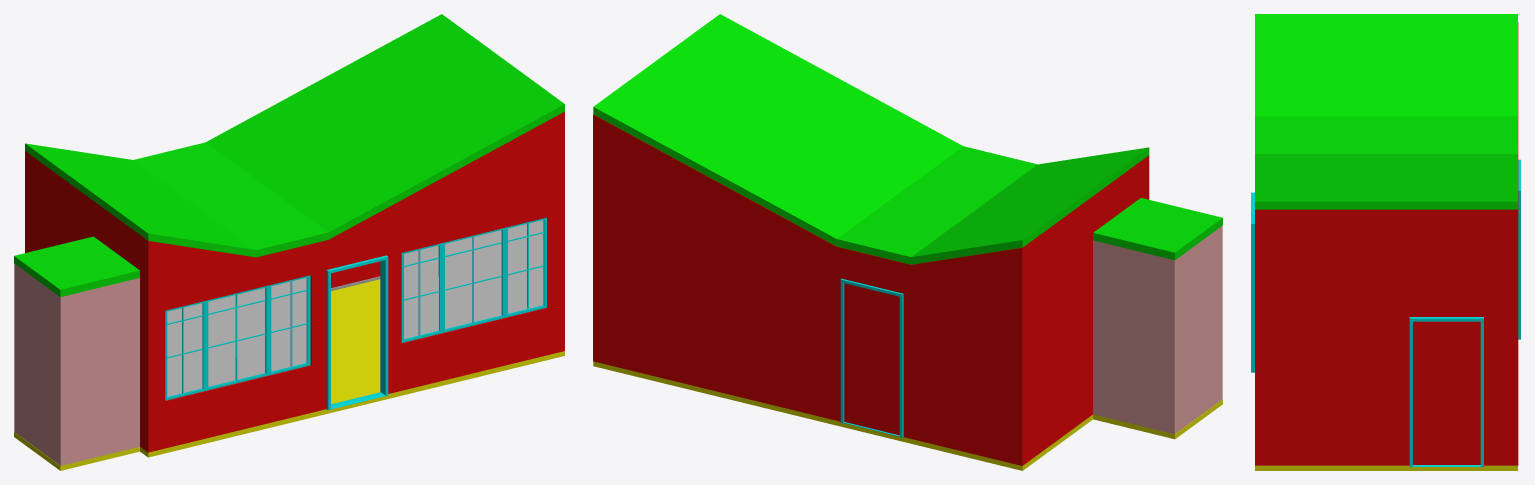
Rendered from FloorPlan522_physics.fbx.
3 renders of one model, left to right at view 1: azimuth 30°, elevation 25°; view 2: azimuth 150°, elevation 25°; view 3: azimuth 270°, elevation 25°, orthographic. The views are drawn at different scales.
Visible parts, largest first — view 1: FP522:Ceiling_1, Walls, FP522:Walls_2, FP522:WindowPane_1 (×2), FP522:Floor_1, FP522:Ceiling_2, FP522:WindowFrame_2, FP522:WindowFrame_1, FP522:DoorFrame_1, FP522:Floor_2; view 2: Walls, FP522:Ceiling_1, FP522:Walls_2, FP522:Ceiling_2, FP522:Floor_1, FP522:DoorFrame_3, FP522:Floor_2; view 3: Walls, FP522:Ceiling_1, FP522:DoorFrame_2, FP522:Floor_1, FP522:DoorFrame_1, FP522:DoorFrame_3.
Boxes of the visible parts, left/top/right/bottom form: FP522:Ceiling_1: left=25, top=14, right=564, bottom=257; Walls: left=25, top=111, right=564, bottom=452; FP522:Walls_2: left=14, top=264, right=139, bottom=465; FP522:WindowPane_1 (×2): left=167, top=220, right=543, bottom=396; FP522:Floor_1: left=140, top=279, right=564, bottom=457; FP522:Ceiling_2: left=14, top=236, right=139, bottom=296; FP522:WindowFrame_2: left=165, top=275, right=310, bottom=400; FP522:WindowFrame_1: left=401, top=217, right=547, bottom=342; FP522:DoorFrame_1: left=326, top=255, right=388, bottom=410; FP522:Floor_2: left=14, top=432, right=139, bottom=470; Walls: left=593, top=114, right=1149, bottom=465; FP522:Ceiling_1: left=593, top=14, right=1149, bottom=264; FP522:Walls_2: left=1093, top=226, right=1222, bottom=434; FP522:Ceiling_2: left=1093, top=198, right=1222, bottom=260; FP522:Floor_1: left=593, top=361, right=1092, bottom=470; FP522:DoorFrame_3: left=840, top=278, right=903, bottom=437; FP522:Floor_2: left=1093, top=399, right=1222, bottom=439; Walls: left=1255, top=22, right=1518, bottom=465; FP522:Ceiling_1: left=1255, top=14, right=1517, bottom=209; FP522:DoorFrame_2: left=1409, top=317, right=1483, bottom=467; FP522:Floor_1: left=1255, top=465, right=1517, bottom=470; FP522:DoorFrame_1: left=1251, top=192, right=1254, bottom=372; FP522:DoorFrame_3: left=1518, top=159, right=1520, bottom=339.
Size of the model in its own units: 774 by 373 by 339.
